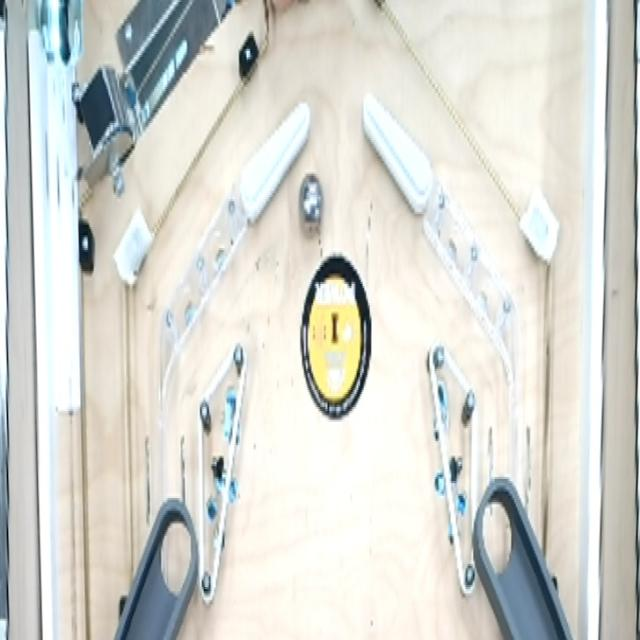ball: (295, 166, 327, 244)
flipper-left: (358, 88, 438, 224)
flipper-right: (235, 90, 311, 241)
